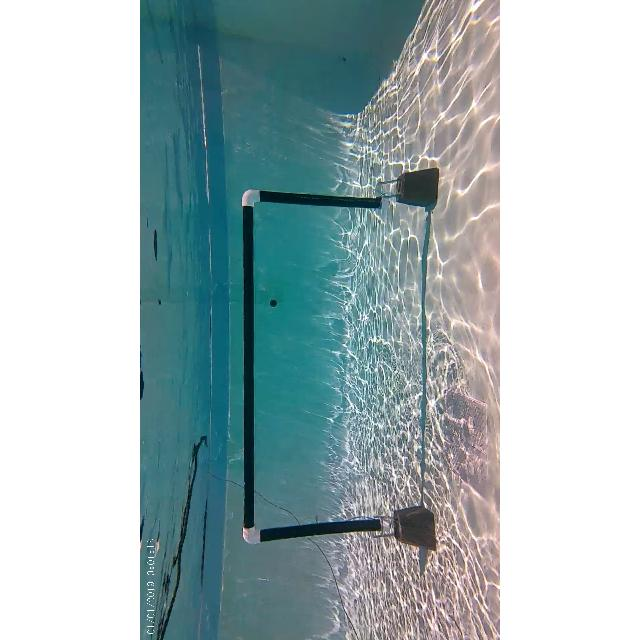prequal gate: (242, 188, 392, 546)
prequal gate leg l: (237, 506, 436, 556)
prequal gate leg r: (244, 168, 451, 220)
